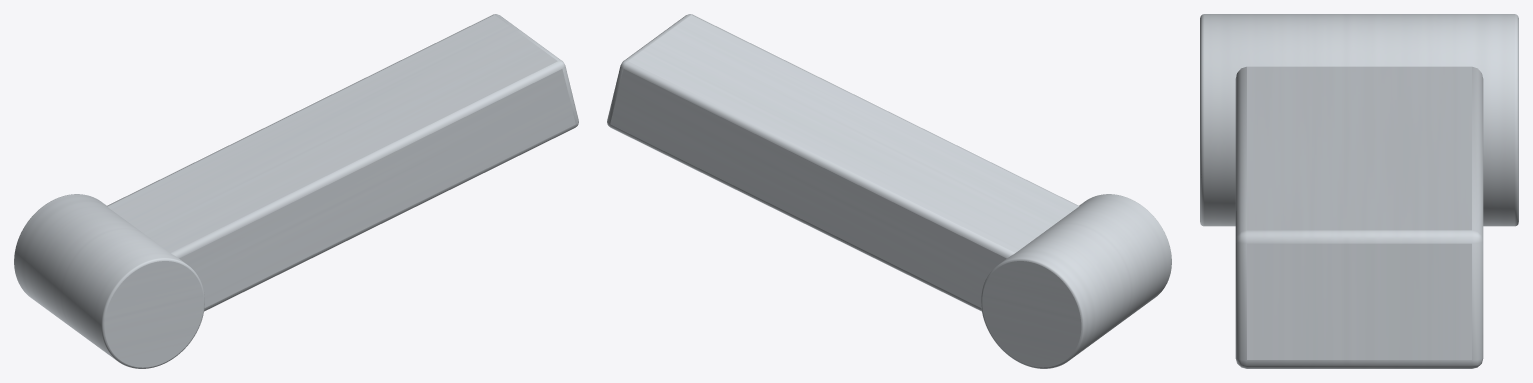
Rendered from left_gripper_right_aluminium.obj.
3 renders of one model, left to right at view 1: azimuth 30°, elevation 25°; view 2: azimuth 150°, elevation 25°; view 3: azimuth 270°, elevation 25°, orthographic. The views are drawn at different scales.
Visible parts, largest first — view 1: left_gripper_right__finger, left_gripper_right__jaw_pivot; view 2: left_gripper_right__finger, left_gripper_right__jaw_pivot; view 3: left_gripper_right__finger, left_gripper_right__jaw_pivot.
Boxes of the visible parts, left/top/right/bottom form: left_gripper_right__finger: left=107, top=14, right=578, bottom=311; left_gripper_right__jaw_pivot: left=14, top=194, right=204, bottom=368; left_gripper_right__finger: left=607, top=14, right=1078, bottom=311; left_gripper_right__jaw_pivot: left=981, top=194, right=1171, bottom=368; left_gripper_right__finger: left=1235, top=66, right=1483, bottom=368; left_gripper_right__jaw_pivot: left=1200, top=14, right=1518, bottom=226.
Size of the model in its own units: 0.0568 by 0.0217 by 0.018.
Materials: 1 (1 with a texture image).
